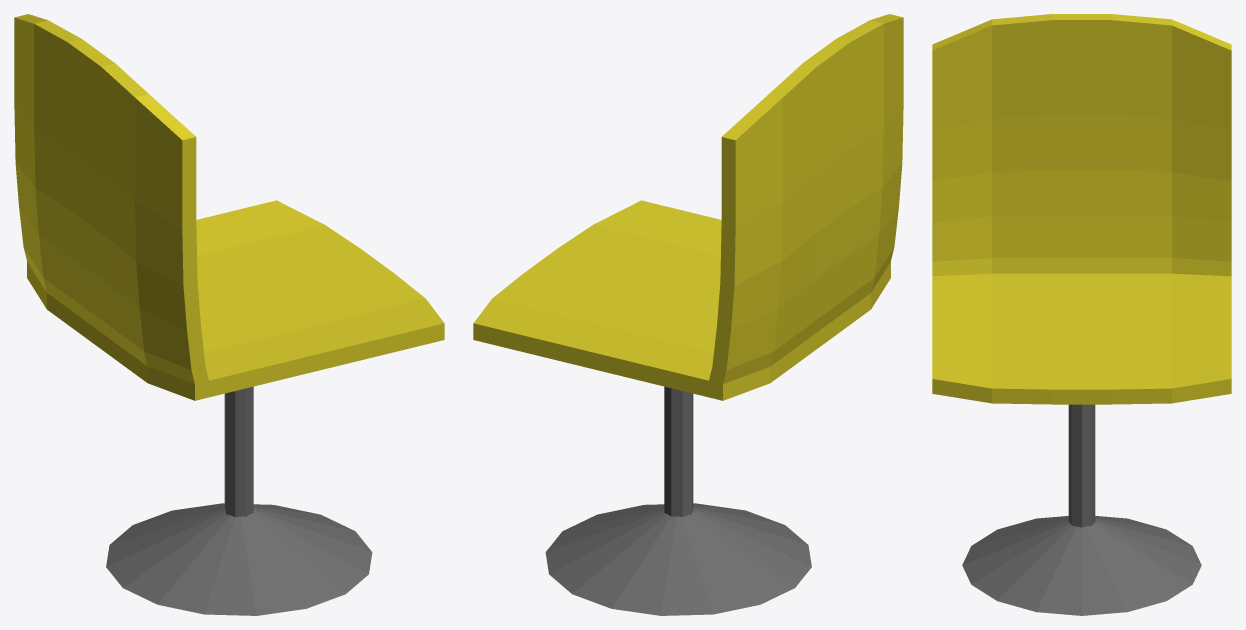
Rendered from Chairyellow.fbx.
3 views of the same model, side by side, from view 1: azimuth 30°, elevation 25°; view 2: azimuth 150°, elevation 25°; view 3: azimuth 270°, elevation 25° (orthographic). The views are drawn at different scales.
Parts seen in each view (by area): view 1: Cube; view 2: Cube; view 3: Cube.
Boxes of the visible parts, x1=… form: Cube: x1=14, y1=14, x2=444, y2=615; Cube: x1=473, y1=14, x2=903, y2=615; Cube: x1=932, y1=14, x2=1231, y2=615.
Size of the model in its own units: 202 by 357 by 200.
